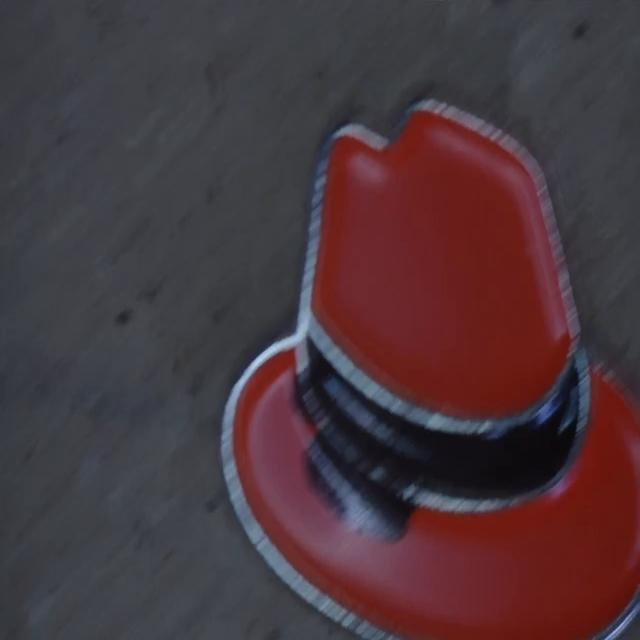Hatband: (296, 316, 590, 511)
Paint_Leak: (308, 436, 411, 540)
RedHatPin: (221, 100, 640, 638)
